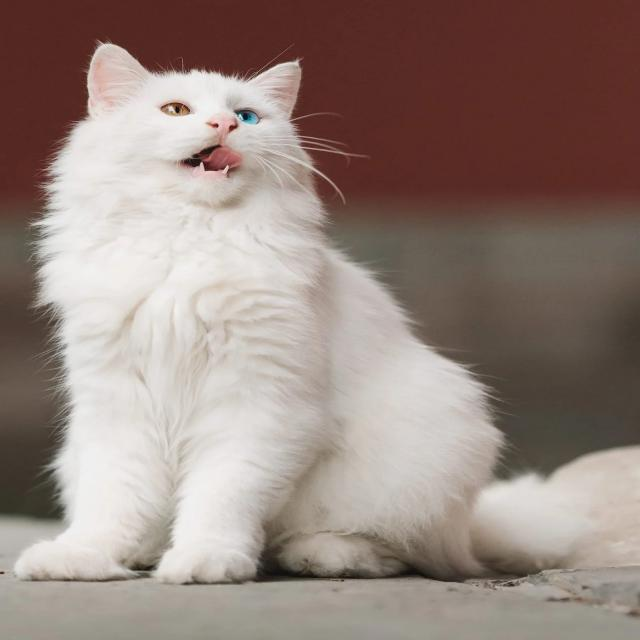cat: (16, 39, 640, 586)
